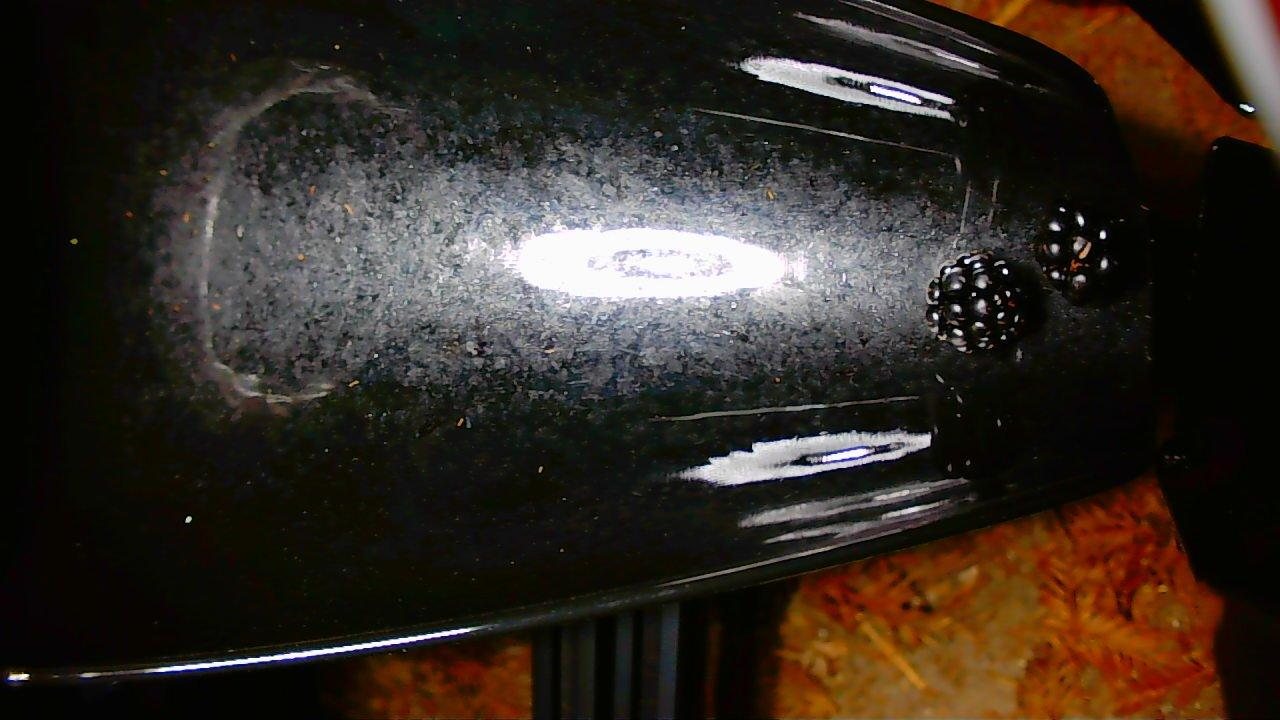berry: (927, 252, 1024, 351), (1035, 204, 1130, 303)
